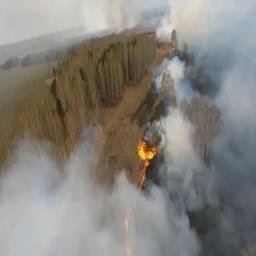Heavy smoke: (157, 1, 256, 231), (2, 132, 183, 254)
Small fire: (135, 133, 164, 186)
